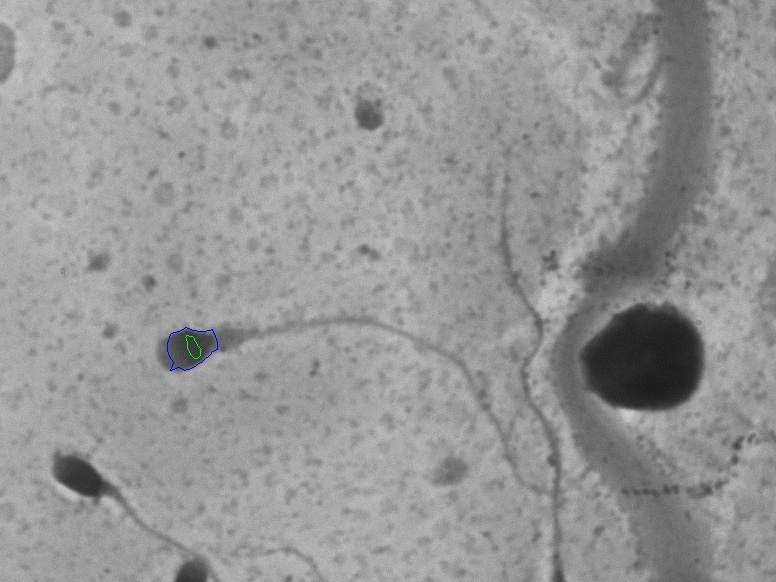Abnormal: (24, 430, 246, 566)
